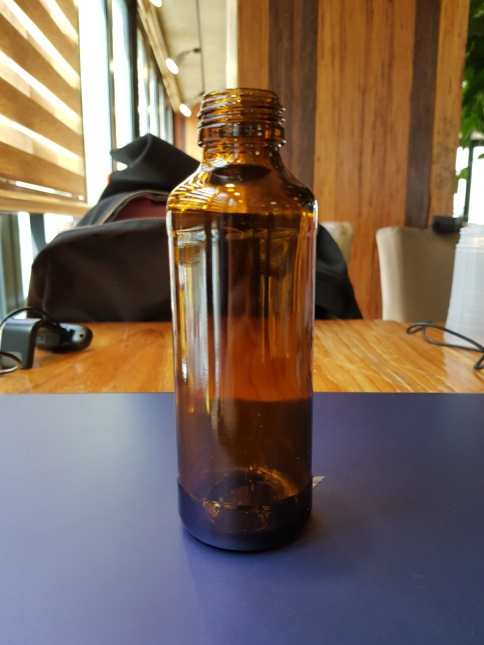Glass: (162, 87, 319, 553)
